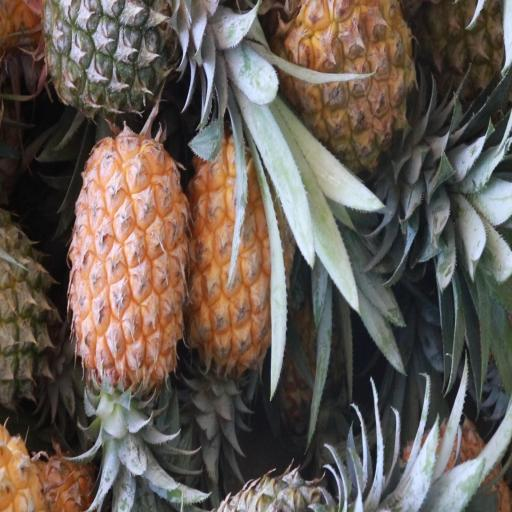Pineapple - v8 v1: (71, 138, 190, 380), (189, 138, 293, 362), (282, 0, 416, 160)
